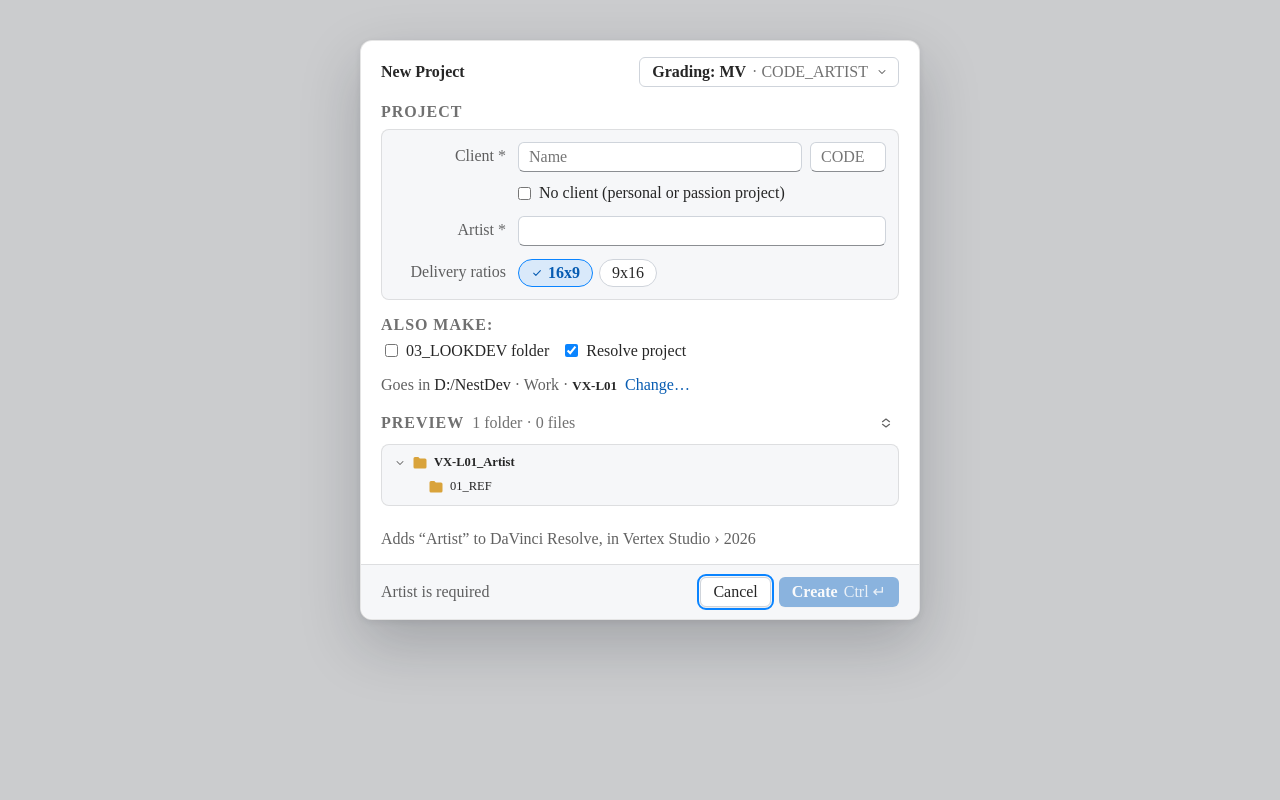
Test: Resolve project › unticking sends resolve: false and the preview line goes
Expected: the field labelled "Artist *" is shown, [518, 216, 886, 246]
Expected: the text "Adds “Artist” to DaVinci Resolve, in Vertex Studio › 2026" is shown, [381, 530, 756, 546]
Step 1. Click the checkbox labelled "Resolve project" → {"x": 572, "y": 350}, box [565, 344, 578, 357]
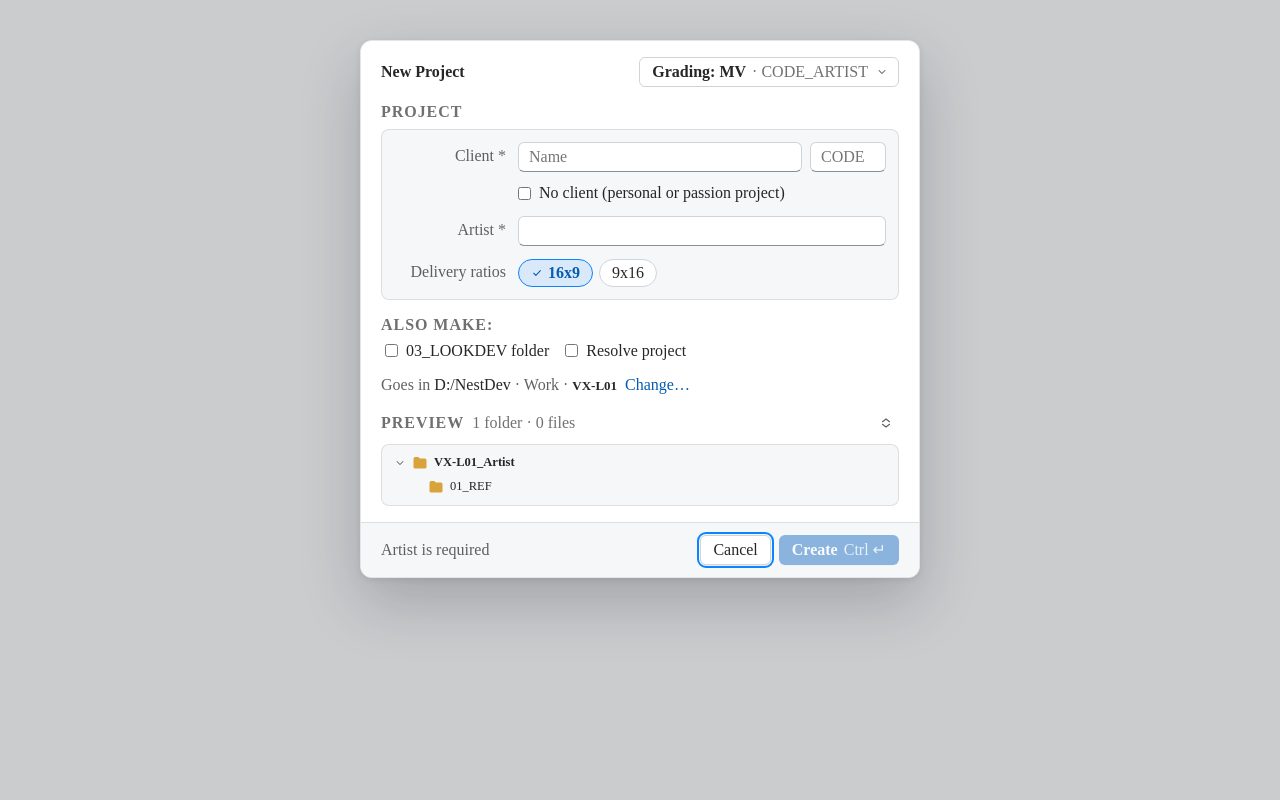
Expected: the text "Adds “Artist” to DaVinci Resolve, in Vertex Studio › 2026" is gone
